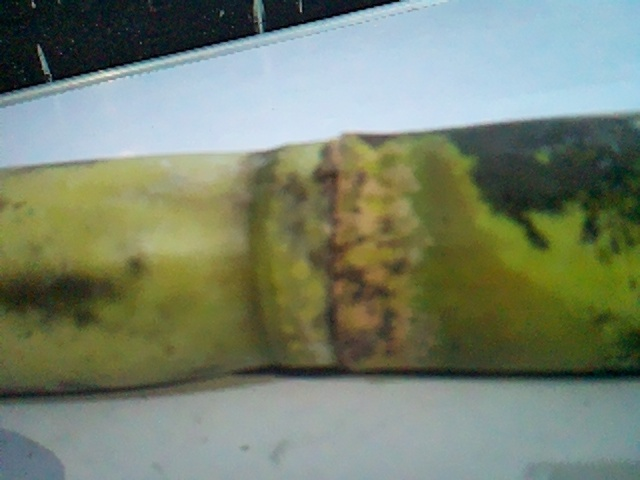Good Sugarcane: (0, 109, 640, 402)
Node: (238, 125, 412, 380)
